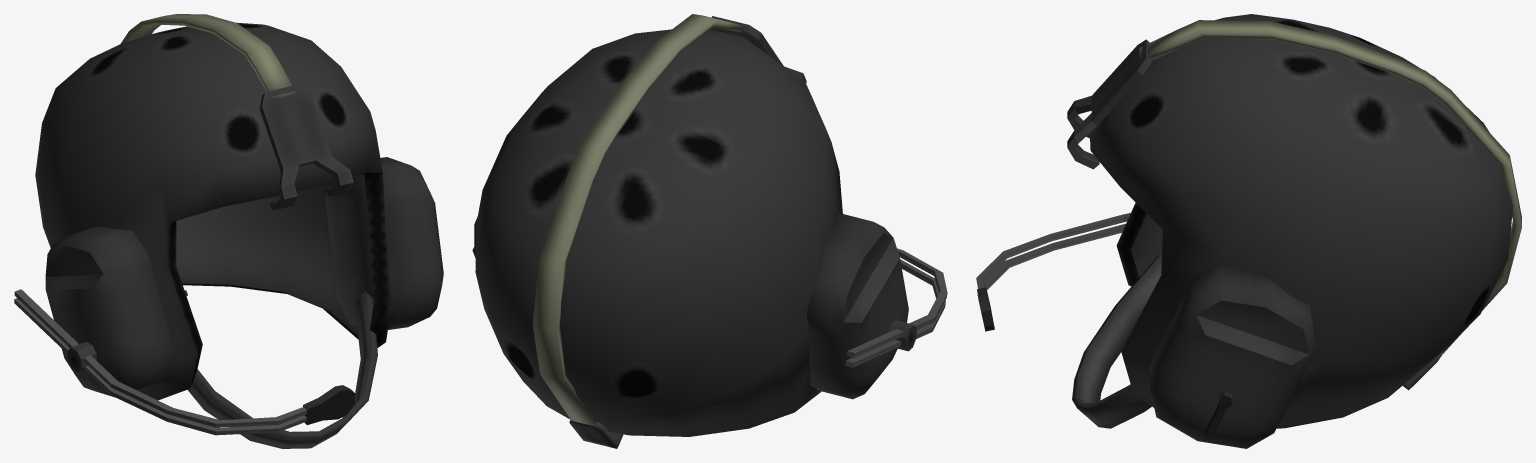
File: MilitaryTacticalHelmetNVGMount_WorldItem.fbx
3 views of the same model, side by side, from view 1: azimuth 30°, elevation 25°; view 2: azimuth 150°, elevation 25°; view 3: azimuth 270°, elevation 25° (orthographic). The views are drawn at different scales.
Visible parts, largest first — view 1: 60jtdo54bx3q.001; view 2: 60jtdo54bx3q.001; view 3: 60jtdo54bx3q.001.
Part boxes in pixels (x1,y1,x2,y2): 60jtdo54bx3q.001: (14, 14, 443, 448); 60jtdo54bx3q.001: (472, 14, 947, 448); 60jtdo54bx3q.001: (976, 14, 1521, 448).
Bounding box in the file's own units: 0.4055 × 0.3772 × 0.4773.
